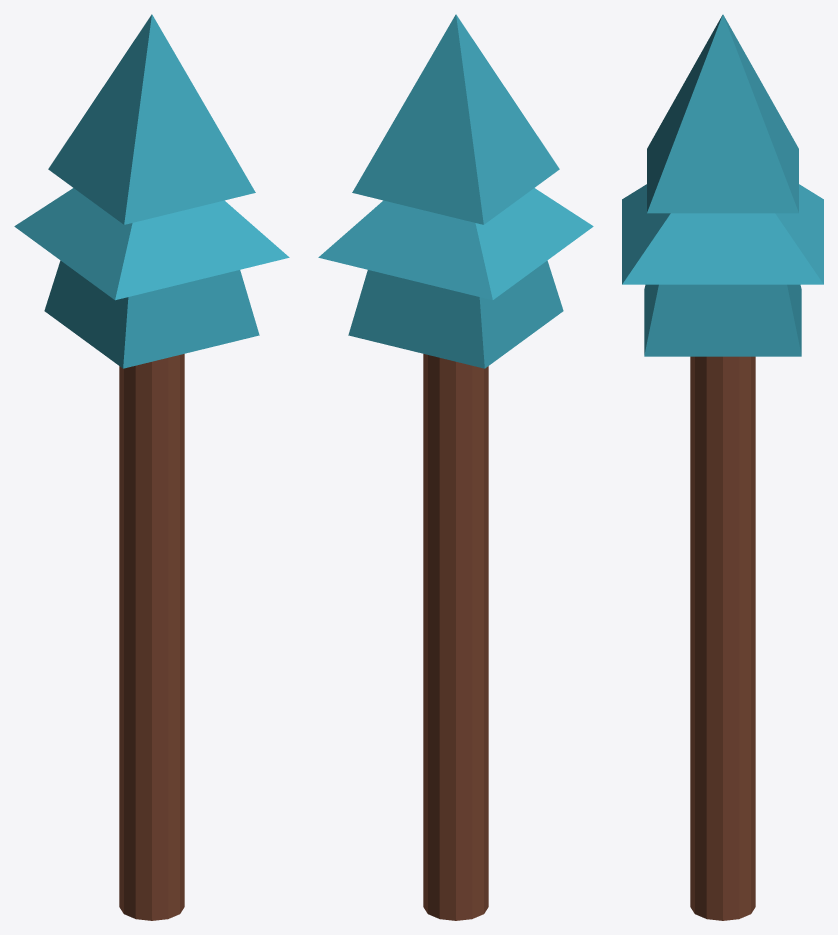
Rendered from Tree_15_summer_blue_mat.fbx.
3 renders of one model, left to right at view 1: azimuth 30°, elevation 25°; view 2: azimuth 150°, elevation 25°; view 3: azimuth 270°, elevation 25°, orthographic.
Visible parts, largest first — view 1: Tree_15_summer_blue_mat; view 2: Tree_15_summer_blue_mat; view 3: Tree_15_summer_blue_mat.
Part boxes in pixels (<box>): Tree_15_summer_blue_mat: <box>14,14,289,920</box>; Tree_15_summer_blue_mat: <box>318,14,593,920</box>; Tree_15_summer_blue_mat: <box>622,14,823,920</box>.
Size of the model in its own units: 68.73 by 336 by 68.73.
